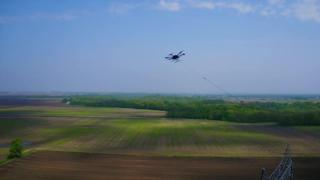UAV: (165, 50, 186, 63)
